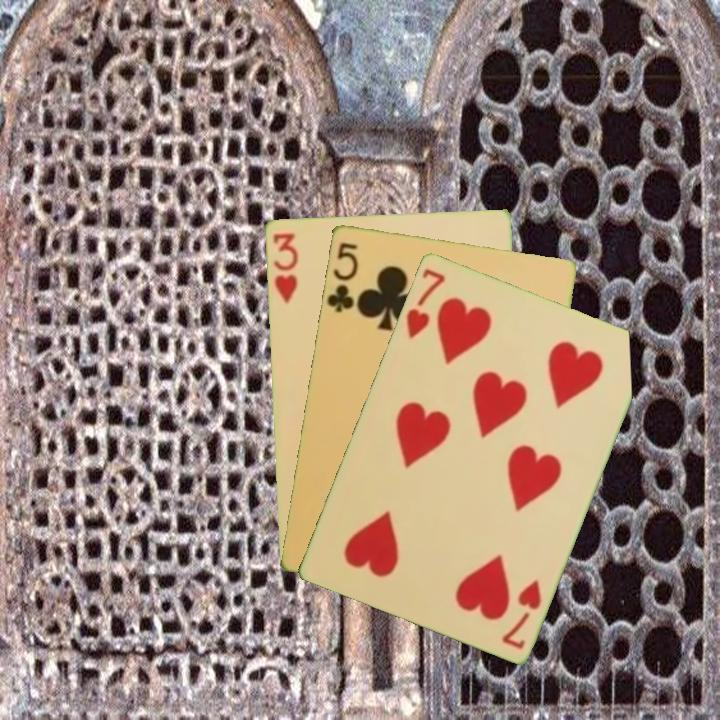3h: (269, 229, 300, 306)
5c: (323, 238, 361, 315)
7h: (402, 264, 448, 341), (498, 576, 544, 652)
